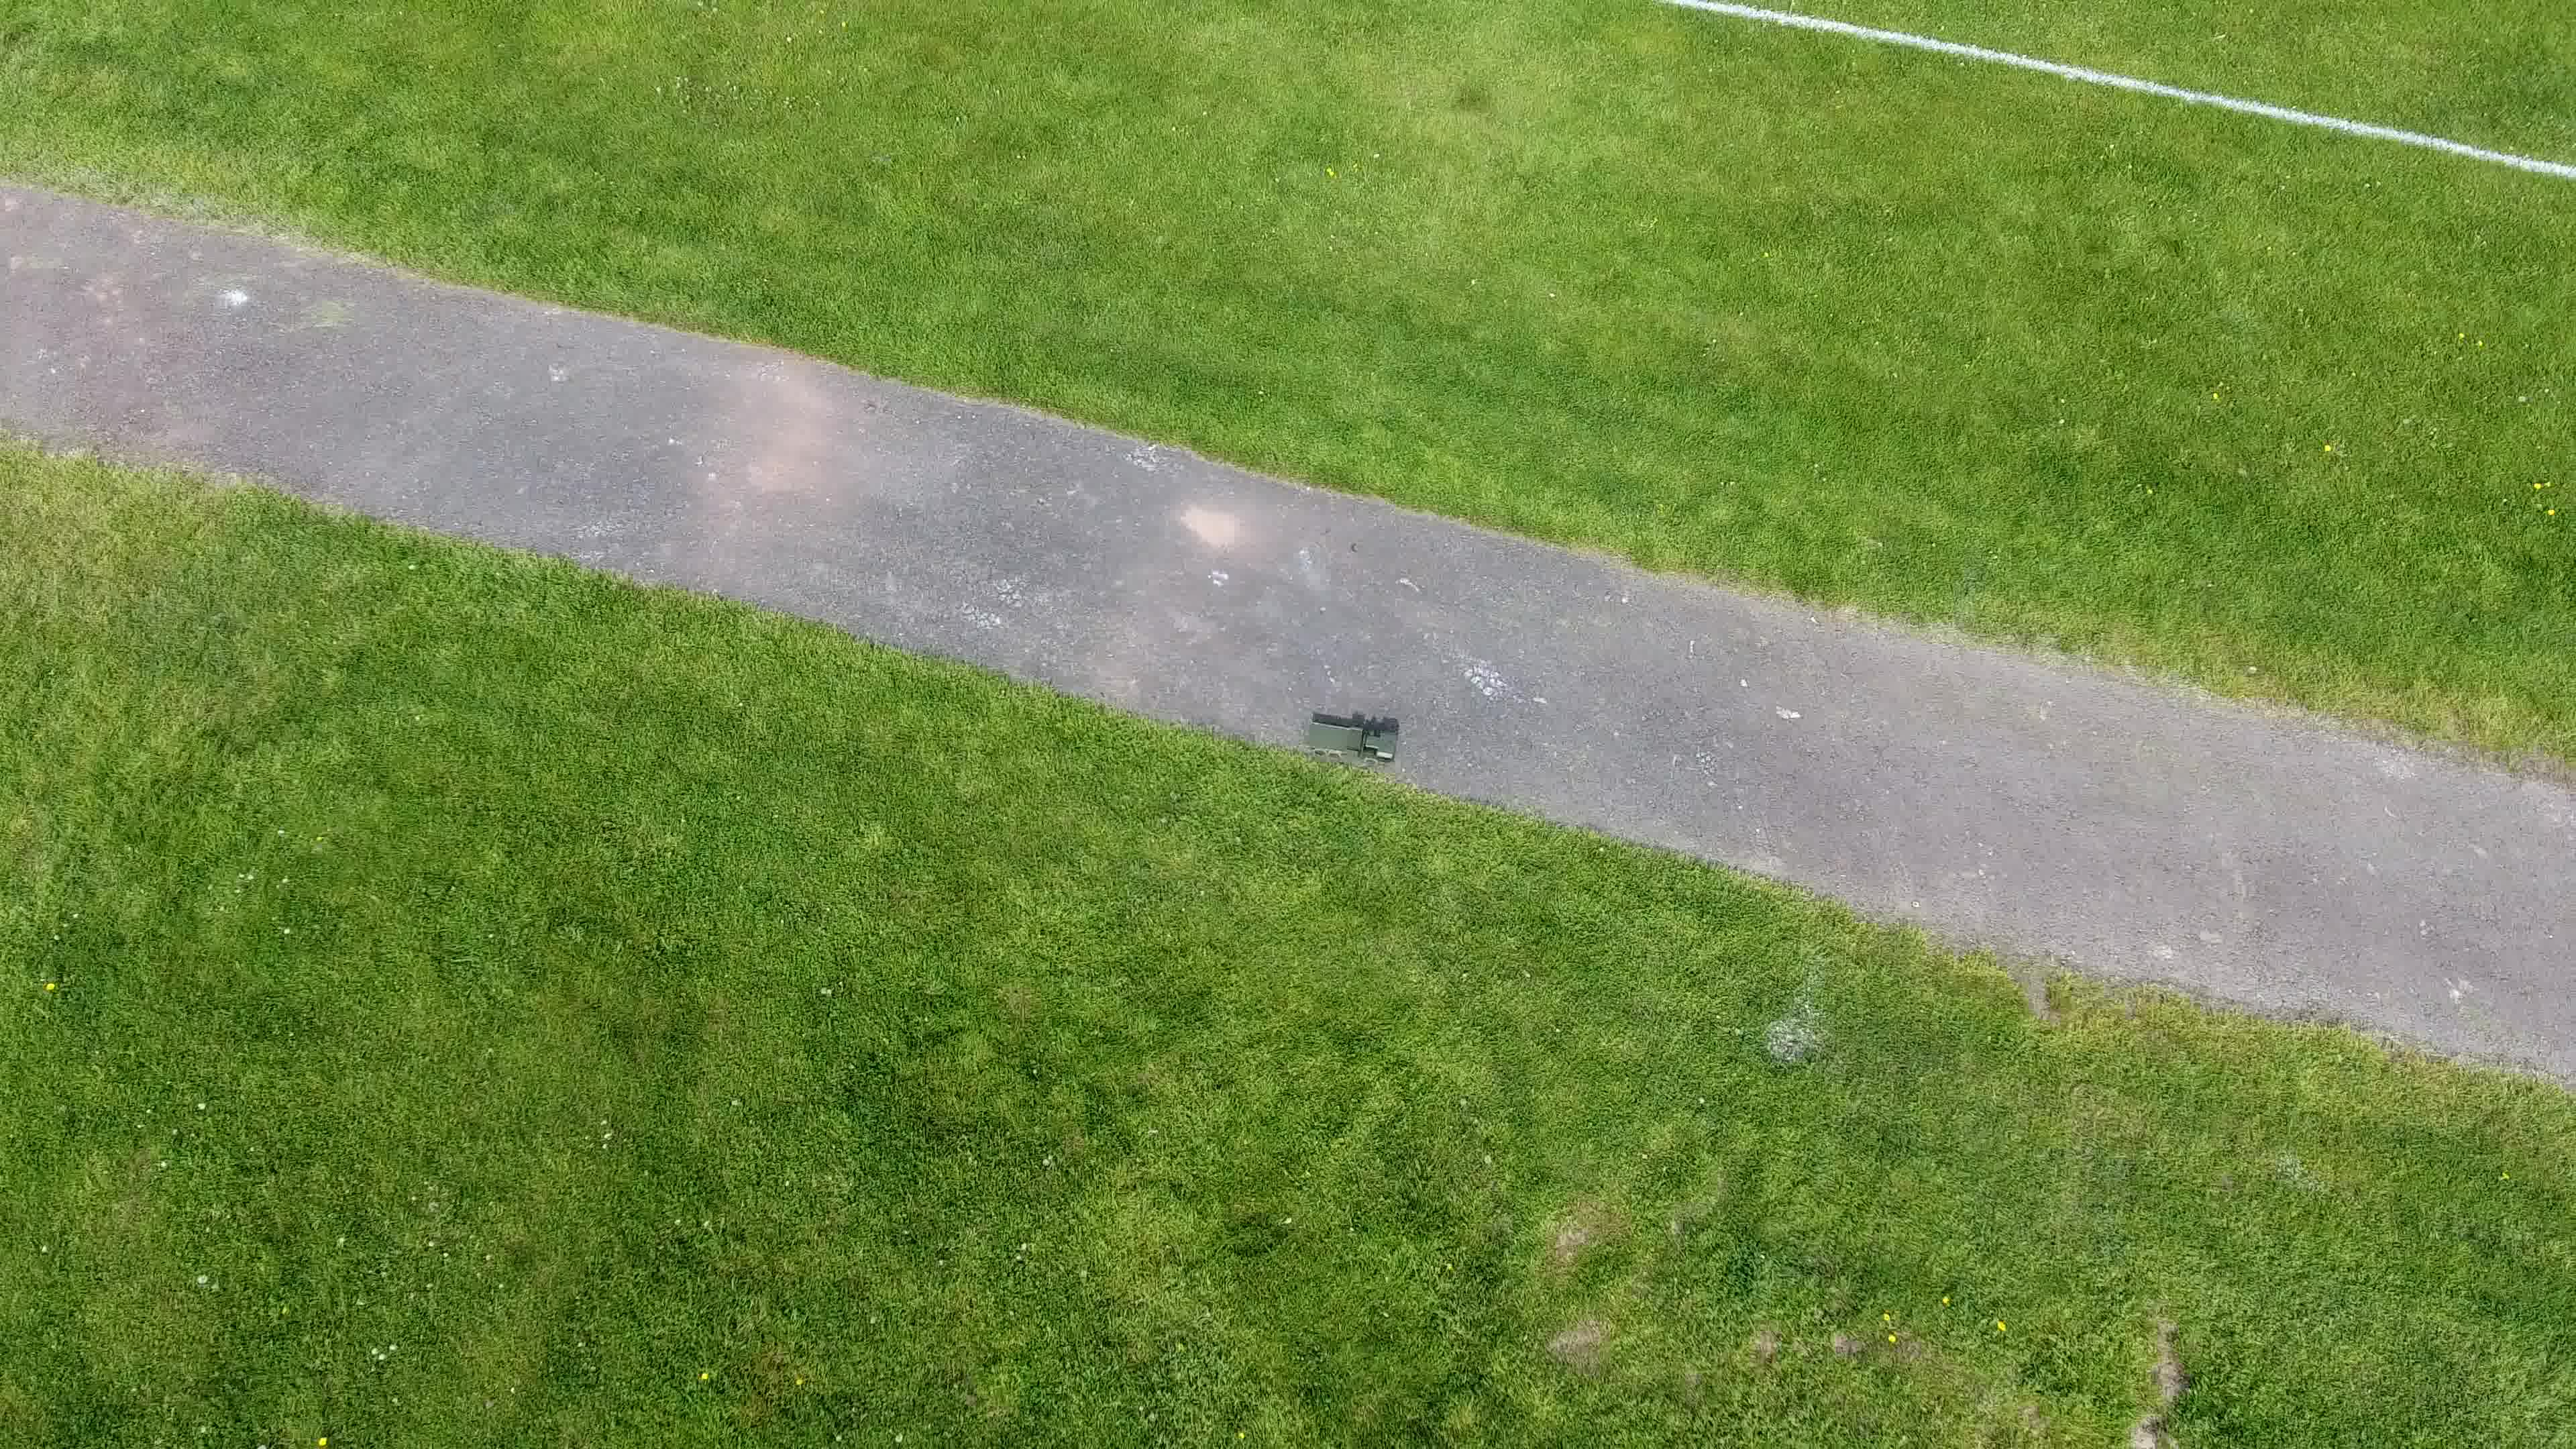transporter9: (1297, 713, 1399, 770)
